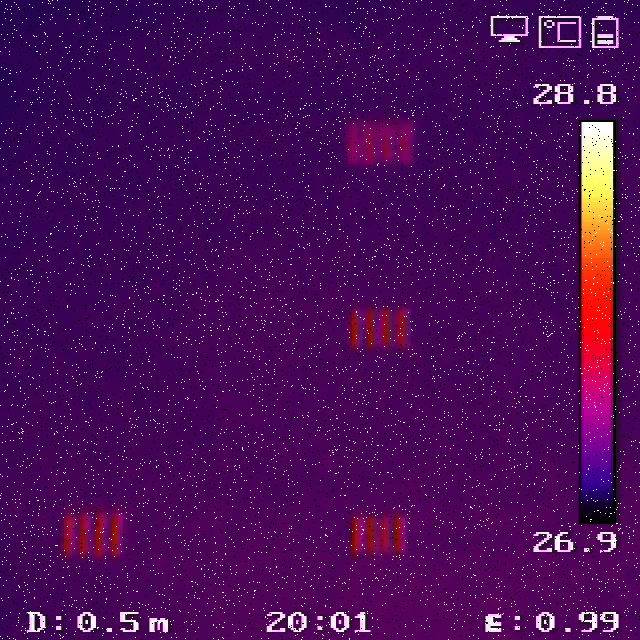Distinguishable 4-bar target: (59, 515, 122, 557), (347, 515, 409, 554)
threshold 4-bar target: (347, 306, 413, 354), (346, 119, 414, 162)
